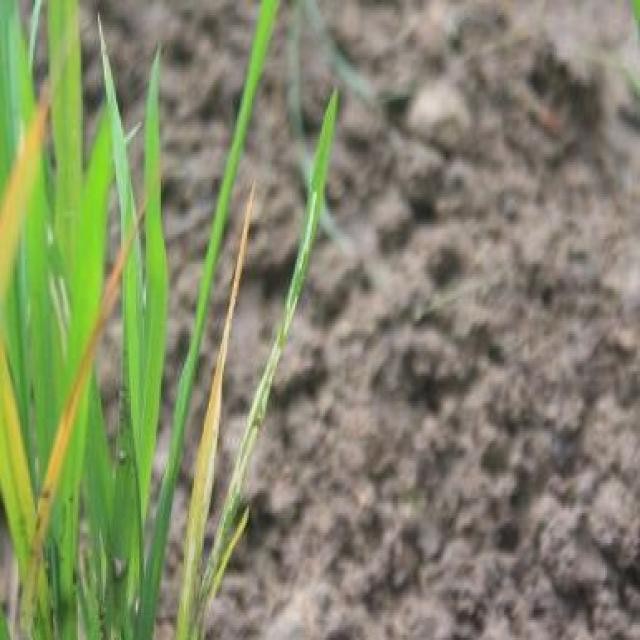Tungro: (3, 75, 109, 624), (188, 173, 258, 640)
